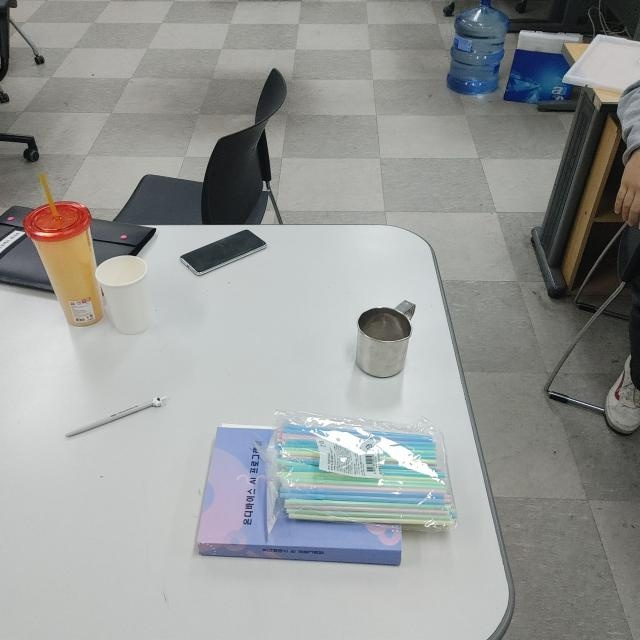cup: (351, 298, 418, 378)
phone: (180, 227, 268, 281)
